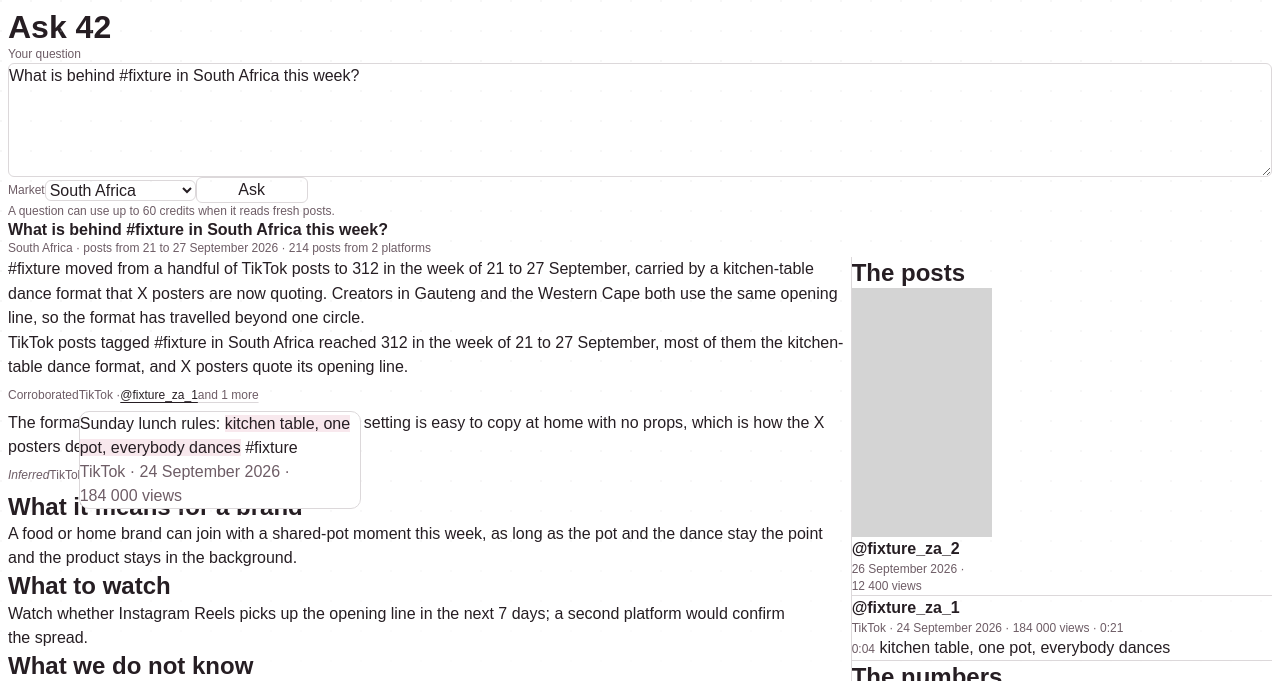
an evidence url or thumbnail that is not http or https never reaches a link or an image
Check: the list item that starts with "@fixture_za_1" is shown, box [852, 595, 1272, 661]
Check: the tooltip is shown, box [79, 411, 361, 509]
Click the button "TikTok @fixture_za_1": (138, 395) [79, 379, 198, 411]
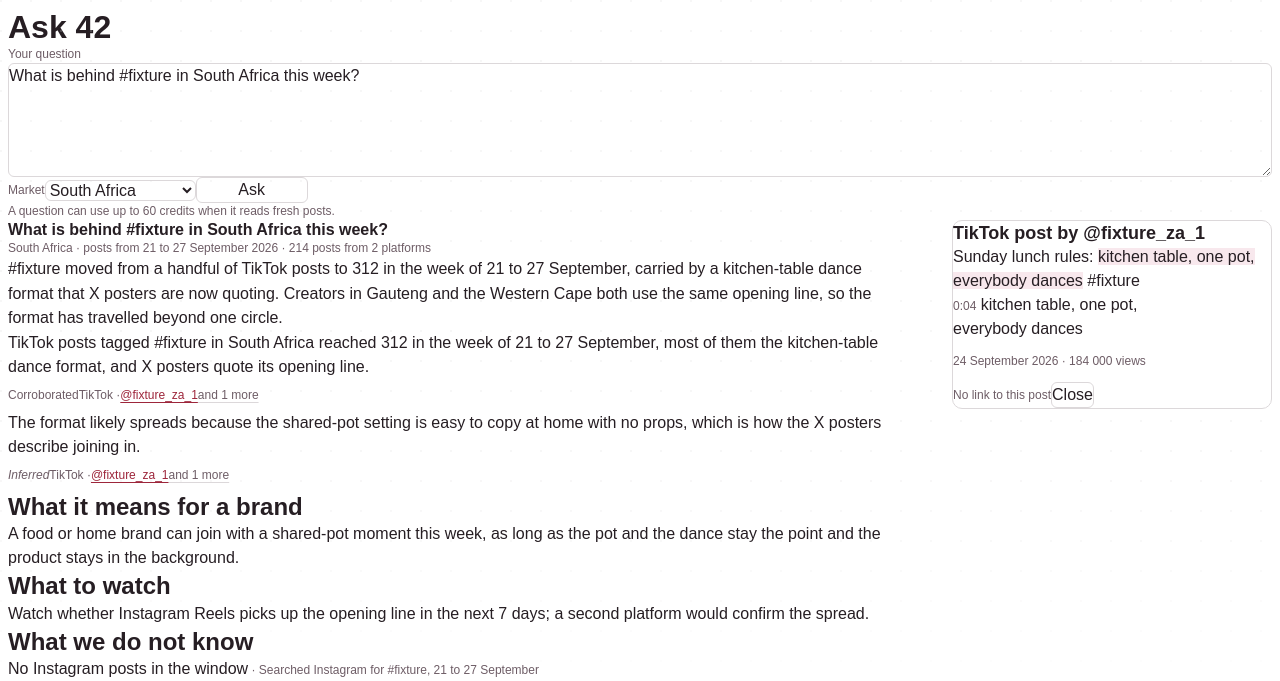
Check: the element named "Source" shows "@fixture_za_1", box [953, 223, 1205, 243]
